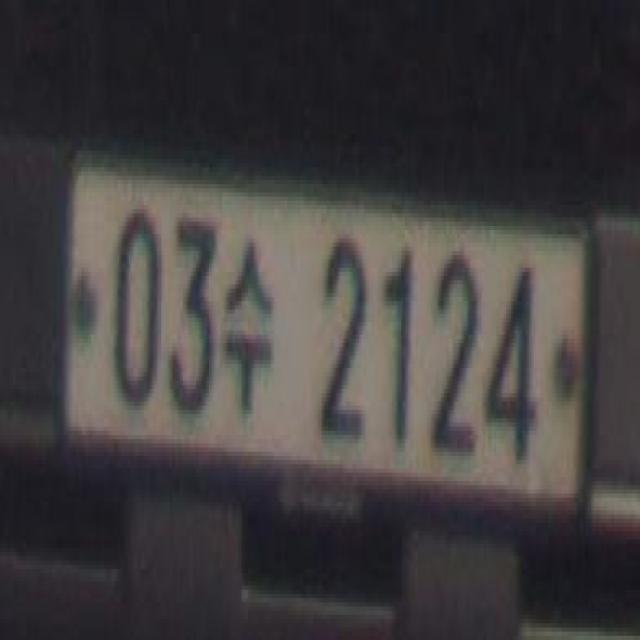illegal_plate: (64, 141, 596, 545)
